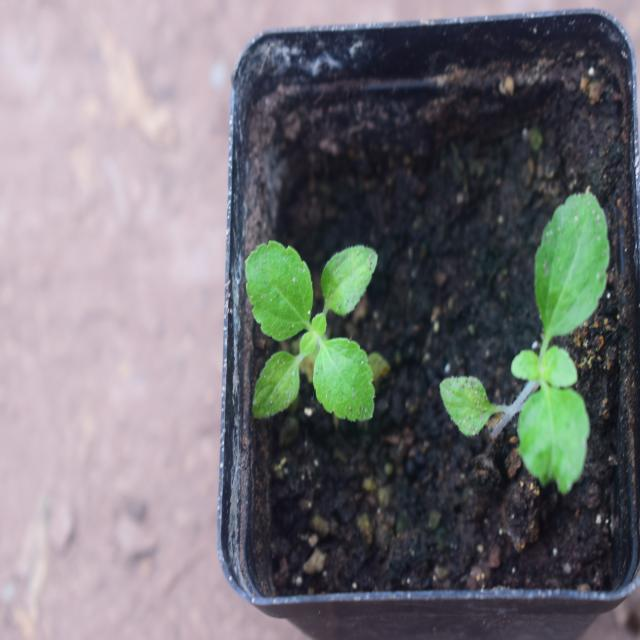billygoat_weed: (449, 155, 615, 492), (238, 199, 396, 419)
